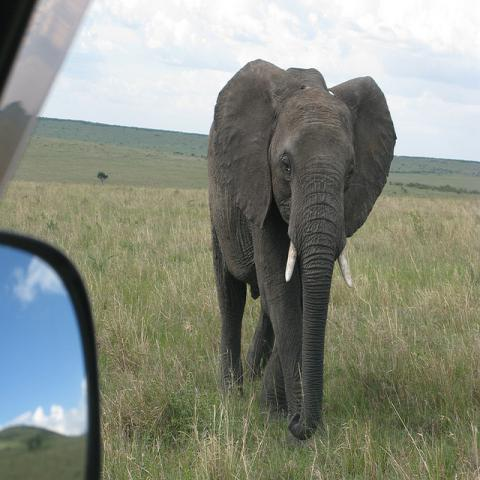car: (0, 1, 105, 474)
